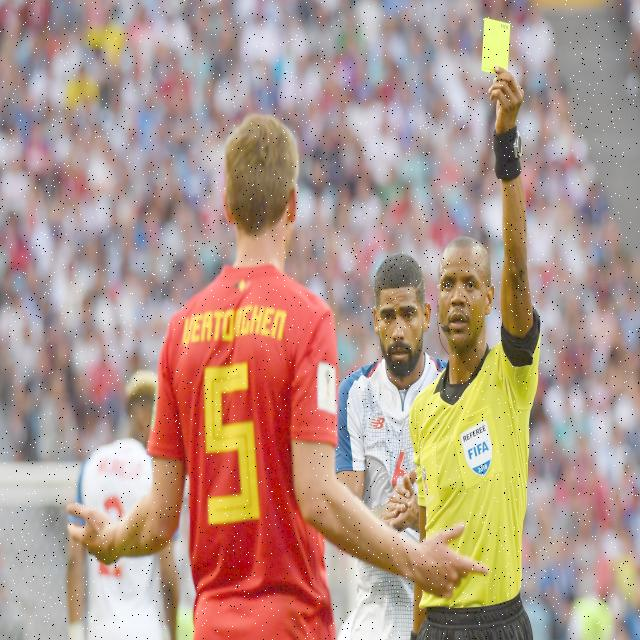yellow-card: (476, 10, 533, 193)
